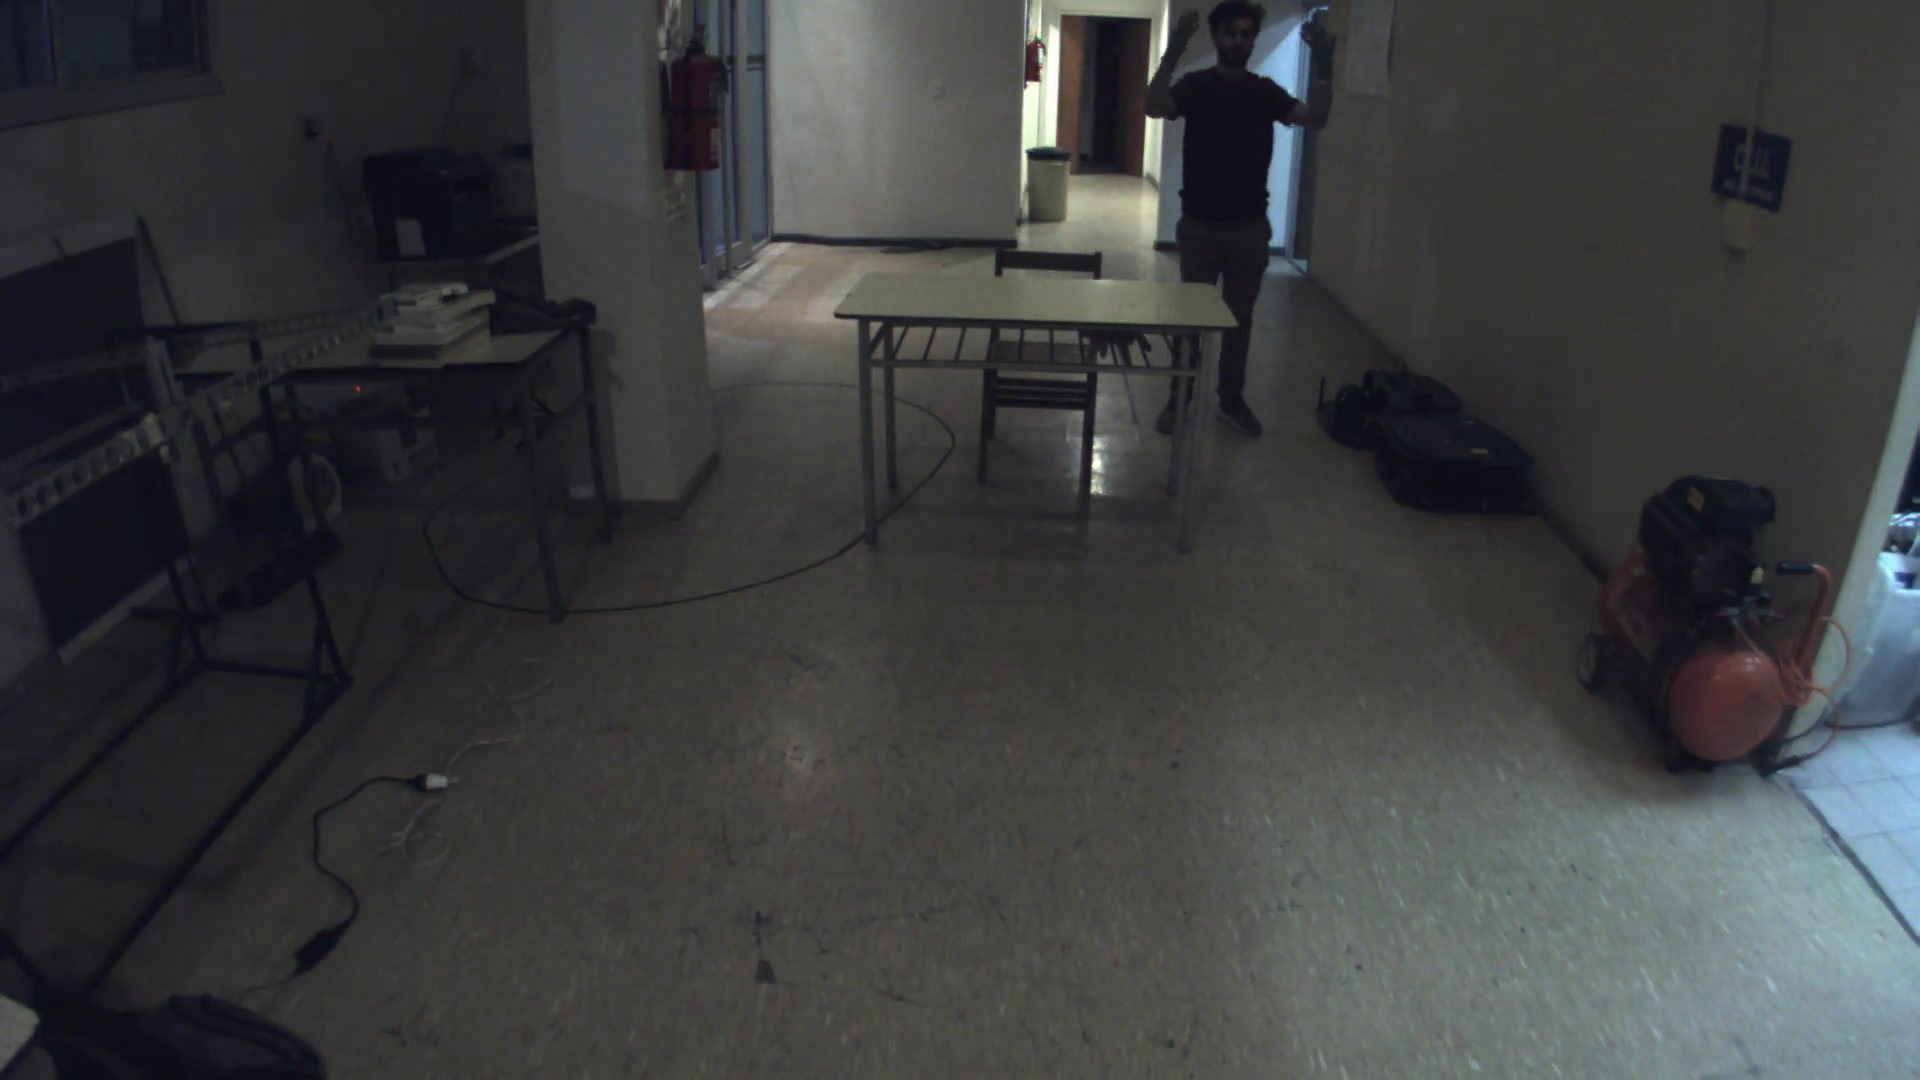hand: (1159, 8, 1213, 75), (1294, 20, 1352, 78)
